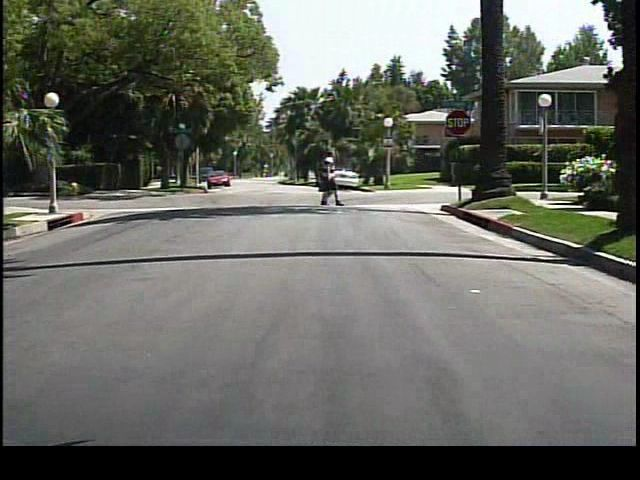person: (313, 148, 338, 207)
